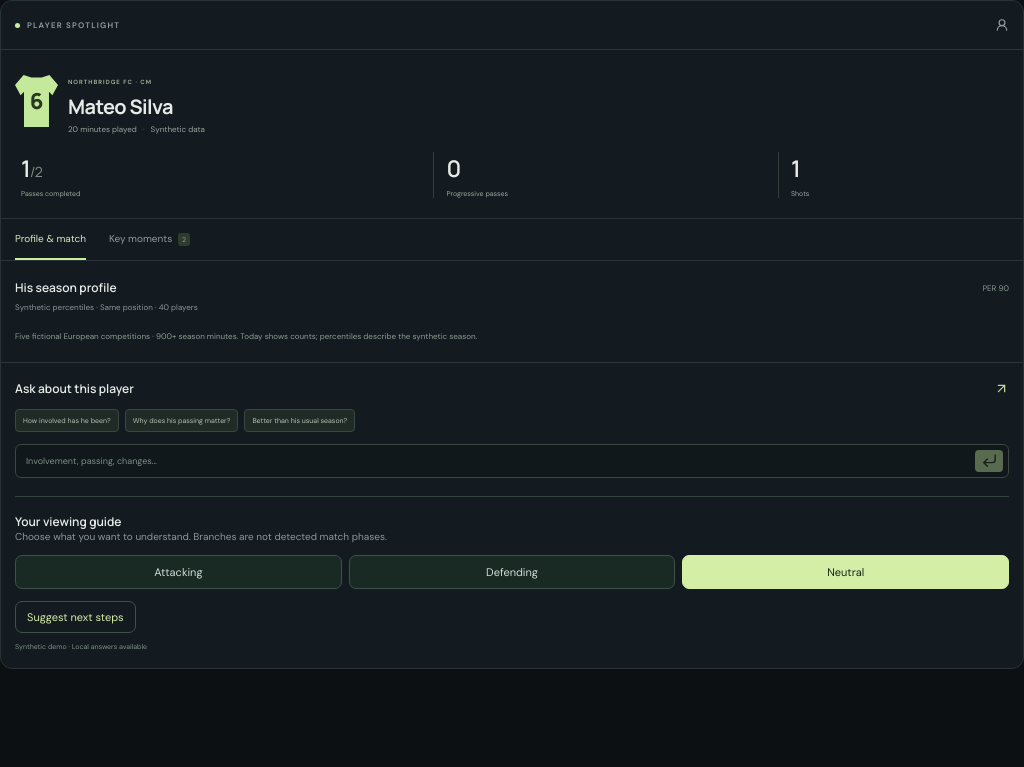
Test case: distinguishes fallback output and exposes supporting recorded actions
Click the button "How involved has he been?".
click(67, 420)  # box left=15, top=409, right=119, bottom=432
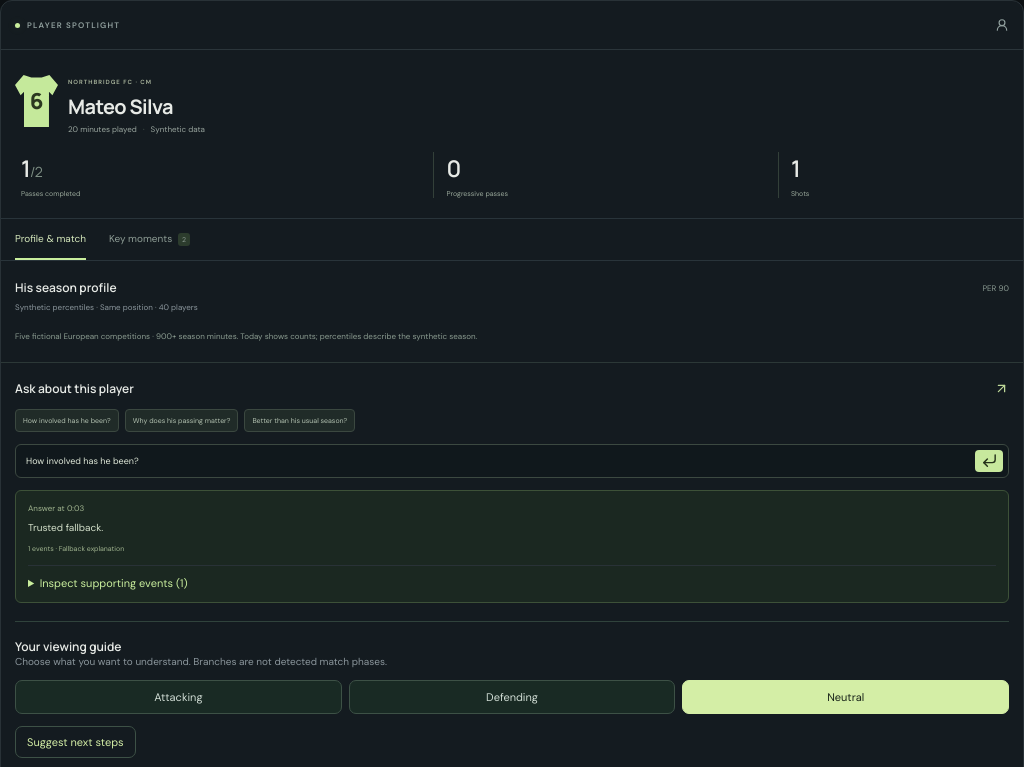
Check: the text "1 events · Fallback explanation" is shown, box left=28, top=544, right=124, bottom=553
Check: the heading "Inspect supporting events (1)" is shown, box left=40, top=576, right=188, bottom=590
